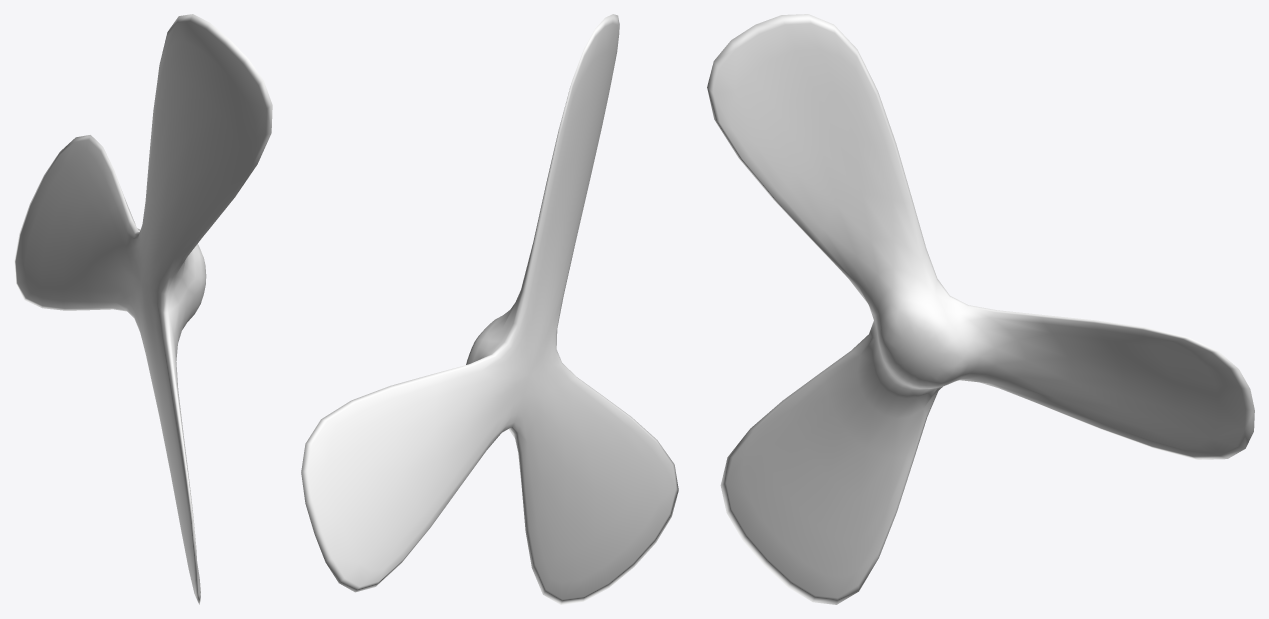
Rendered from aspas.obj.
3 views of the same model, side by side, from view 1: azimuth 30°, elevation 25°; view 2: azimuth 150°, elevation 25°; view 3: azimuth 270°, elevation 25° (orthographic). The views are drawn at different scales.
Visible parts, largest first — view 1: Object017; view 2: Object017; view 3: Object017.
Part boxes in pixels (x1,y1,x2,y2): Object017: (14, 14, 272, 604); Object017: (301, 14, 678, 604); Object017: (707, 14, 1254, 604).
Bounding box in the file's own units: 1.45 × 6.21 × 5.28.
Materials: 1 (1 with a texture image).
